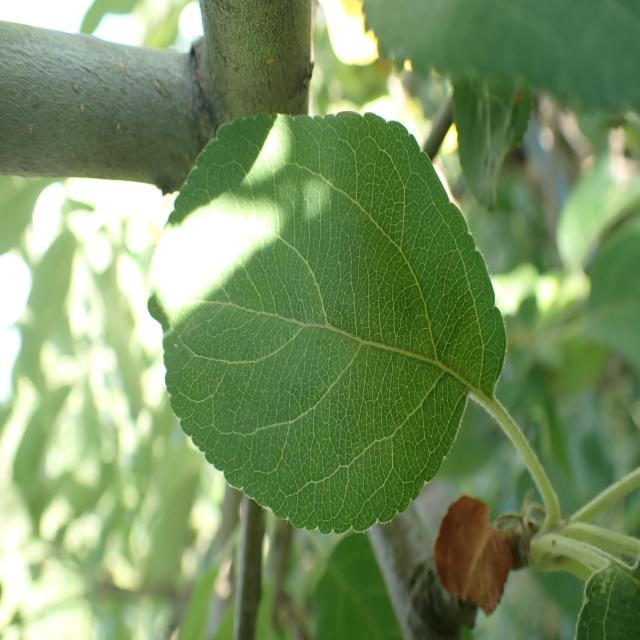healthy: (146, 110, 507, 534)
